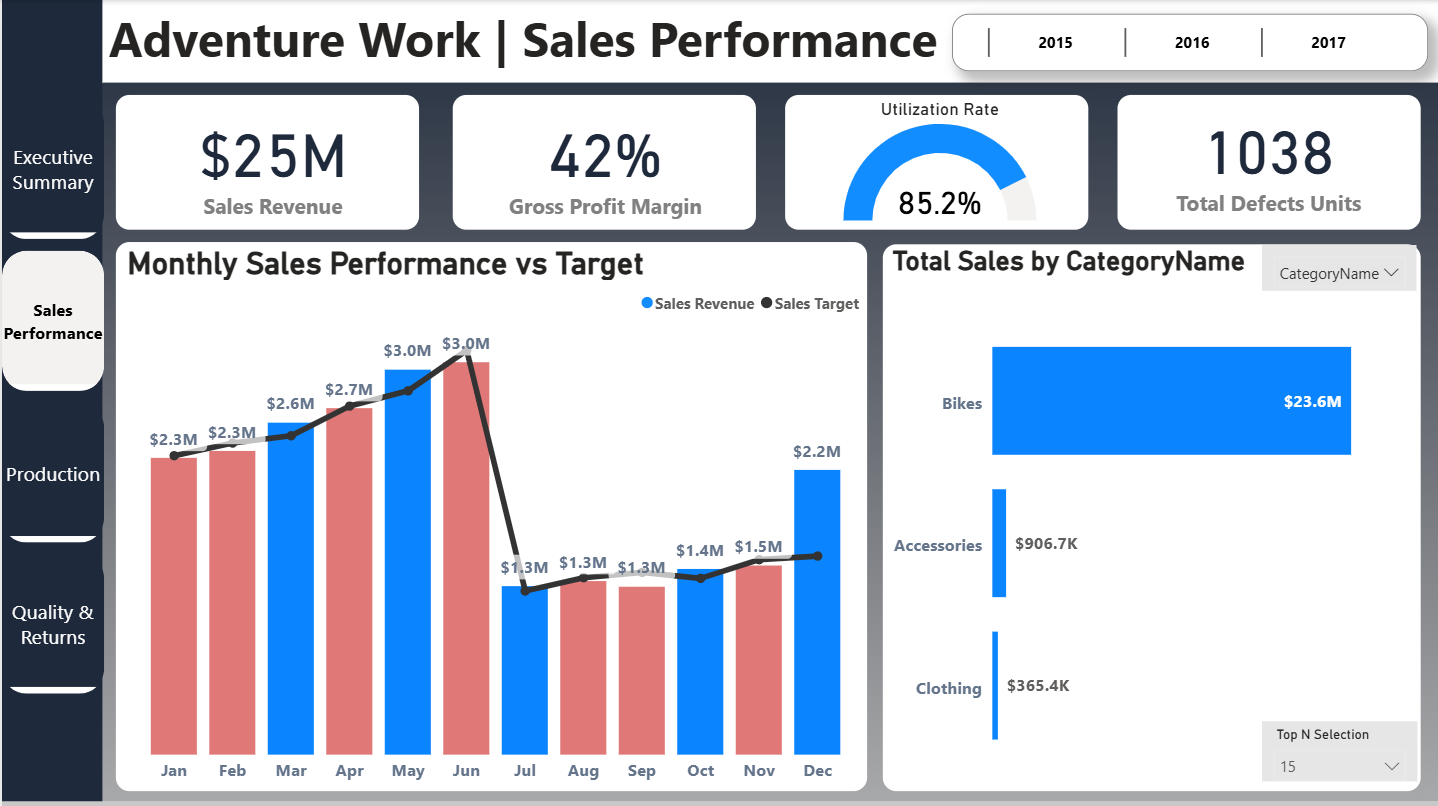

The dashboard page shown, as its layout file describes it:
{"tool":"powerbi","page":{"name":"Sales Performance","canvas":[1280,720],"ordinal":1},"visuals":[{"type":"card","fields":{"Values":["_Measures.Sales Revenue"]},"box":[106.9,84.6,269.4,119.1],"z":0},{"type":"card","fields":{"Values":["_Measures.Gross Profit Margin"]},"box":[404.1,84.6,267.2,119.1],"z":1000},{"type":"gauge","fields":{"Y":["_Measures.Utilization Rate"]},"box":[700.2,87.9,270.5,113.5],"z":2000},{"type":"card","fields":{"Values":["_Measures.T-Defects Qty"]},"box":[996.3,84.6,263.8,113.5],"z":3000},{"type":"lineClusteredColumnComboChart","title":"Monthly Sales Performance vs Target","fields":{"Y":["_Measures.Sales Revenue"],"Y2":["_Measures.Sales Target"],"Category":["Dim_Date.Year Hierarchy.MonthName"]},"box":[106.7,218.1,666.4,487.8],"z":4000},{"type":"textbox","box":[90.2,0,770.3,72.4],"z":5000},{"type":"clusteredBarChart","fields":{"Category":["Dim_Territories.Country"],"Y":["_Measures.Sales Revenue"]},"box":[787.6,218.4,472.6,501.7],"z":6000},{"type":"slicer","fields":{"Values":["Dim_Date.Year"]},"box":[846,12.2,424.1,51.2],"z":7000},{"type":"slicer","fields":{"Values":["Dimension_Switch.Dimension_Switch"]},"box":[1122.5,218.4,137.7,41],"z":8000},{"type":"slicer","fields":{"Values":["Top N Selection.Top N Selection"]},"box":[1122.1,641.9,138.2,53.9],"z":9000},{"type":"pageNavigator","box":[0,87.9,91.3,532.1],"z":10000}]}

Visuals, with their boxes in screenshot pixels (x1, y1, x2, y2), scaled from the page's 1280x720 canvas onto the 1438x806 screenshot:
card - _Measures.Sales Revenue: <box>120,95,423,228</box>
card - _Measures.Gross Profit Margin: <box>454,95,754,228</box>
gauge - _Measures.Utilization Rate: <box>787,98,1091,225</box>
card - _Measures.T-Defects Qty: <box>1119,95,1416,222</box>
"Monthly Sales Performance vs Target" lineClusteredColumnComboChart: <box>120,244,869,790</box>
textbox: <box>101,0,967,81</box>
clusteredBarChart - Dim_Territories.Country x _Measures.Sales Revenue: <box>885,244,1416,805</box>
slicer - Dim_Date.Year: <box>950,14,1427,71</box>
slicer - Dimension_Switch.Dimension_Switch: <box>1261,244,1416,290</box>
slicer - Top N Selection.Top N Selection: <box>1261,719,1416,779</box>
pageNavigator: <box>0,98,103,694</box>
